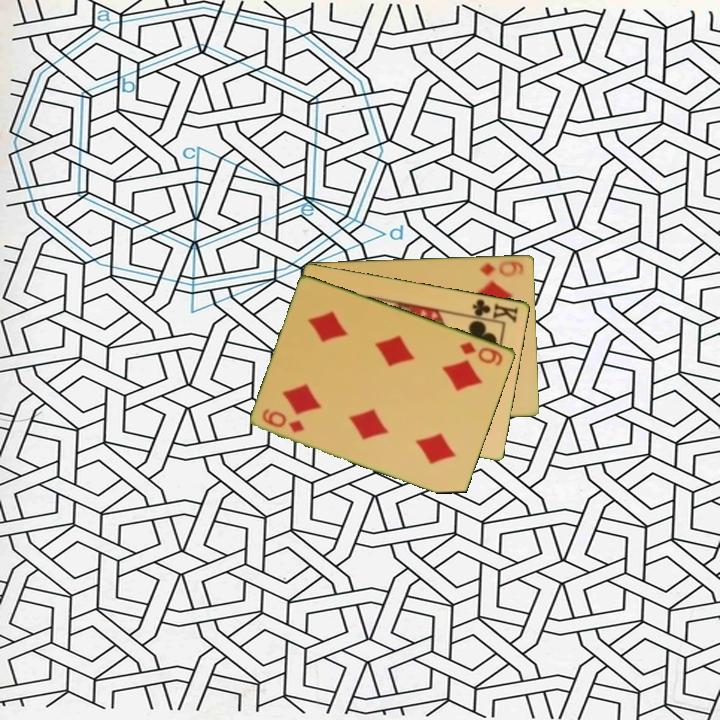6d: (457, 338, 506, 369), (259, 405, 308, 436), (477, 257, 526, 280)
Kc: (465, 295, 521, 325)
